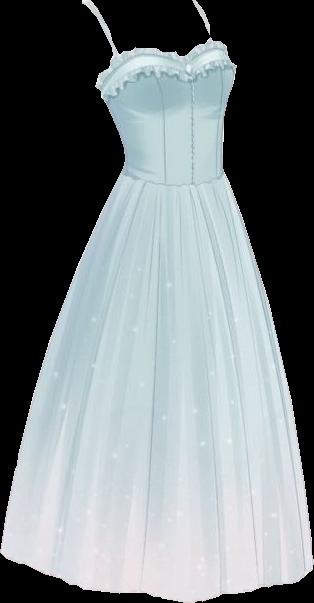Bodice: (95, 39, 236, 187)
Hemline: (0, 550, 313, 602)
Neckline: (94, 39, 226, 87)
Skirt: (0, 177, 313, 601)
Waistline: (118, 171, 229, 191)
